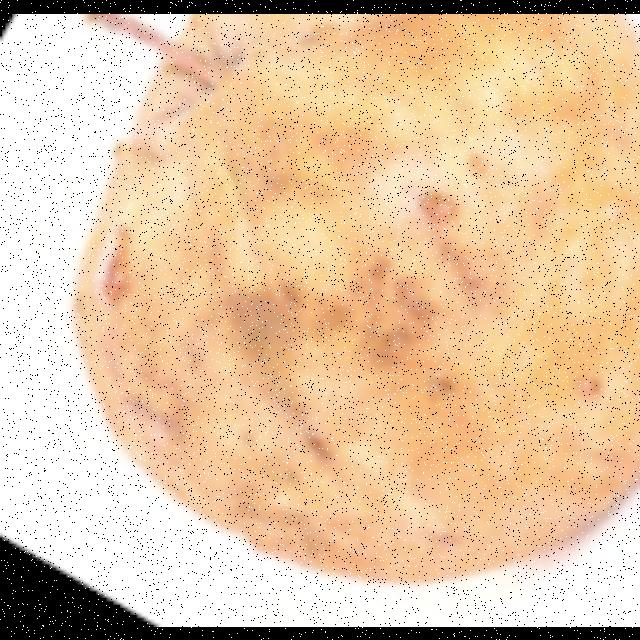Apel Tidak Segar: (75, 13, 640, 619)
